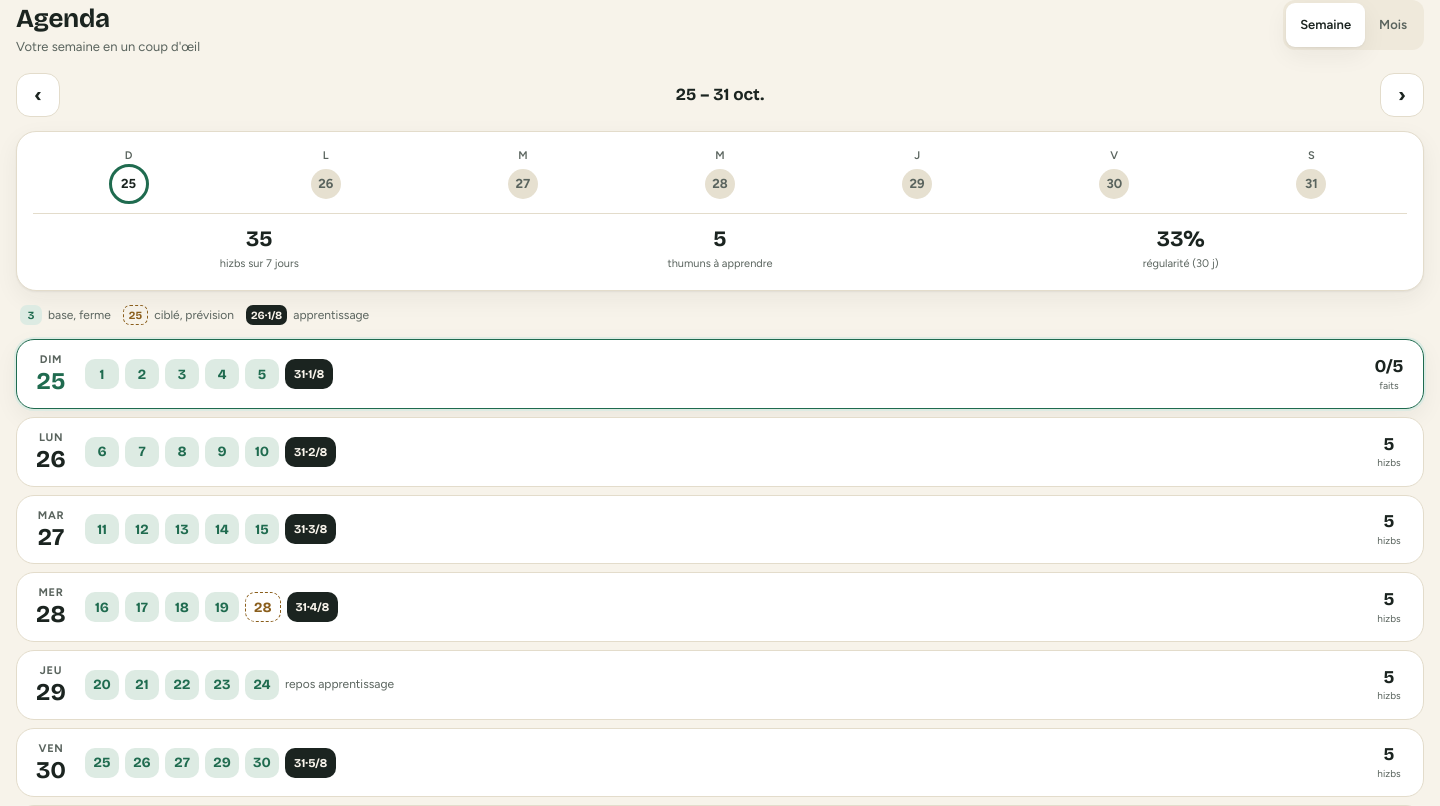
Test: Agenda, vue semaine › semaine précédente : jours passés lus dans dayLog et le journal, pas dans la prévision
Click the button named "Semaine précédente". click: {"x": 38, "y": 94}
box: [16,72,60,116]
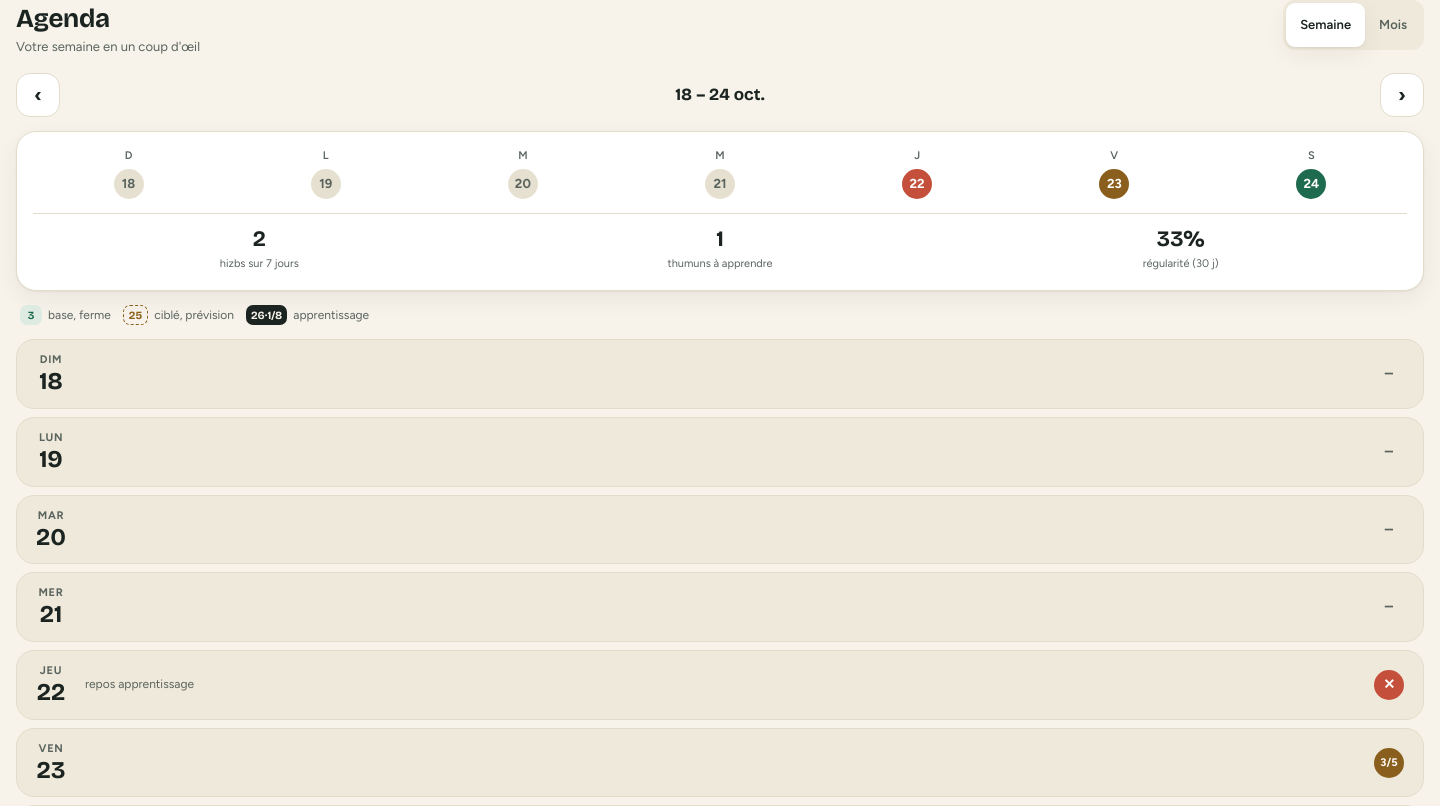
Now the text "3/5" is shown, box [1374,748,1404,778]
Now the picture "✕" is shown, box [1374,670,1404,700]
Now the 1st picture with class "neutral" is shown, box [1385,364,1393,382]
